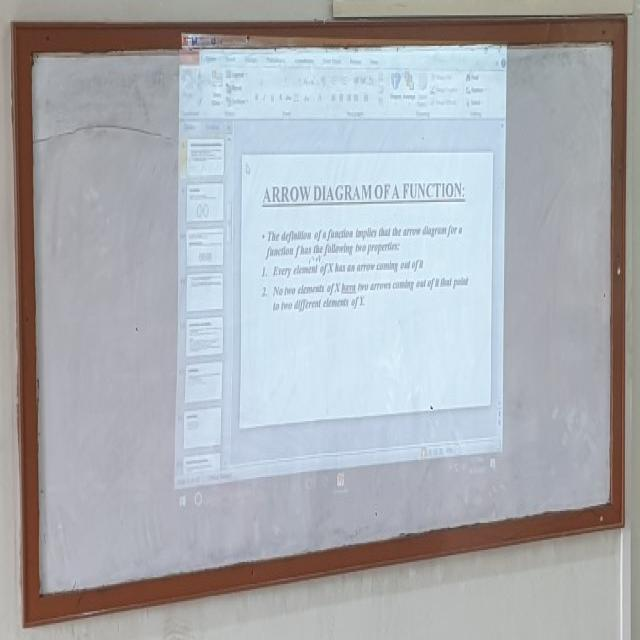Slide: (175, 37, 508, 523)
White-board: (26, 30, 618, 609)
